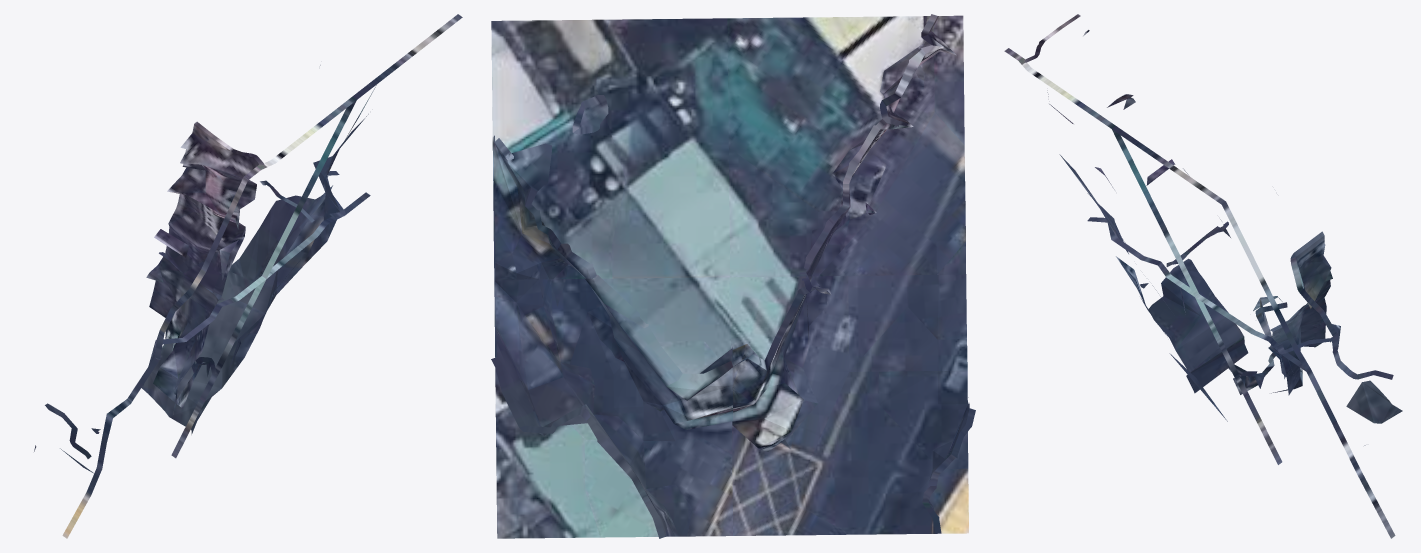
The picture shows the model from 3 angles, left to right: view 1: azimuth 30°, elevation 25°; view 2: azimuth 150°, elevation 25°; view 3: azimuth 270°, elevation 25°; orthographic projection. The views are drawn at different scales.
Bounding box in the file's own units: 39.57 × 37.49 × 33.13.
1 material, 1 textured.
